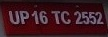character: (8, 9, 20, 24), (60, 9, 71, 24), (50, 10, 61, 24), (19, 10, 29, 24), (38, 10, 48, 24), (73, 10, 83, 24), (31, 9, 40, 24), (95, 10, 103, 24), (81, 11, 89, 24), (88, 11, 96, 24)
